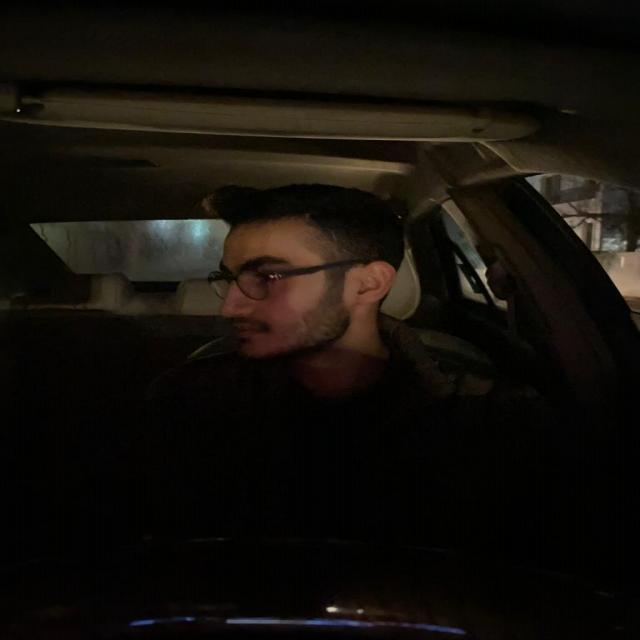LeftRight: (205, 184, 411, 361)
